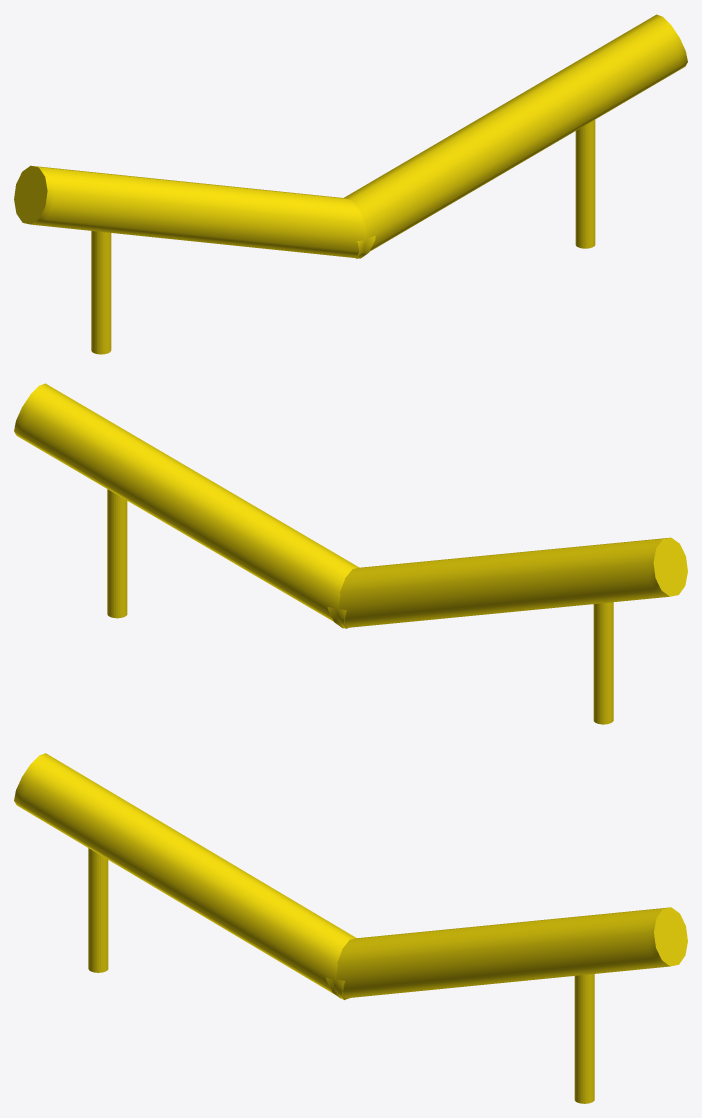
The model's file is V_Rail.fbx.
The picture shows the model from 3 angles, top to bottom: view 1: azimuth 30°, elevation 25°; view 2: azimuth 150°, elevation 25°; view 3: azimuth 330°, elevation 25°; orthographic projection.
Parts seen in each view (by area): view 1: V_Rail; view 2: V_Rail; view 3: V_Rail.
Part boxes in pixels (x1,y1,x2,y2): V_Rail: (14,14,687,354); V_Rail: (14,383,687,724); V_Rail: (14,753,687,1103).
Size of the model in its own units: 7588 by 2310 by 635.
